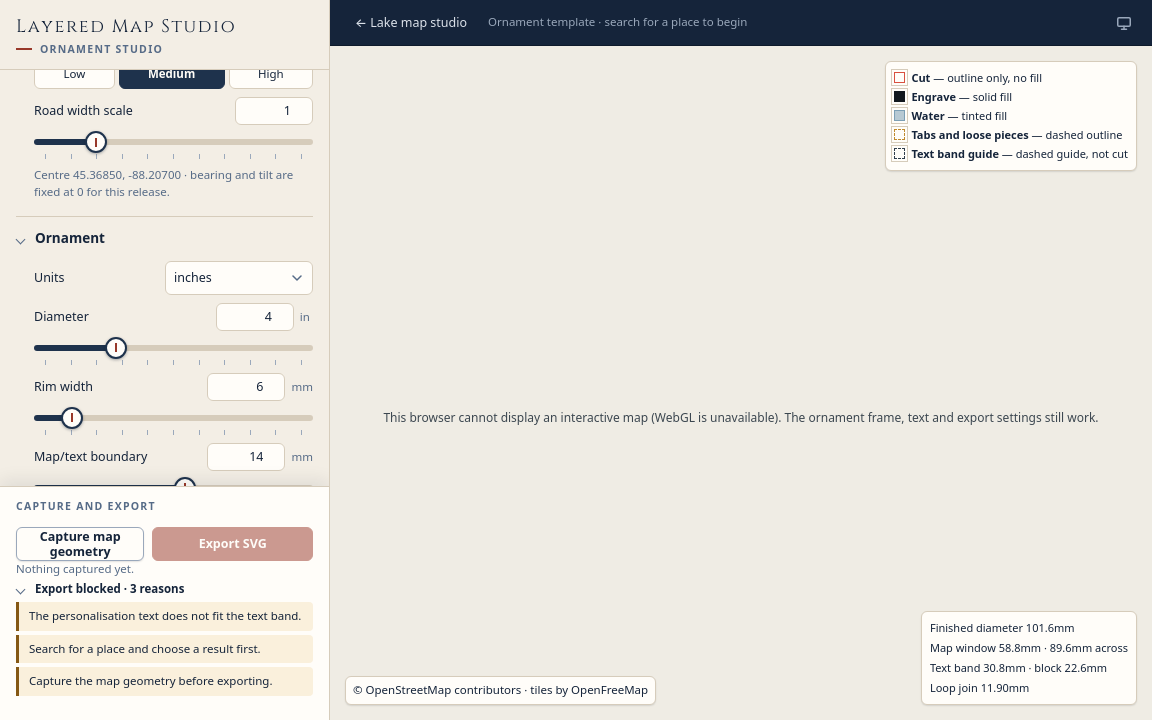
Scenario: ornament reset, as displayed › re-displays millimetres without changing the stored diameter
(page scrolled)
Select "millimetres" in the dropdown labelled "Units" at (239, 278), box [165,261,313,295]
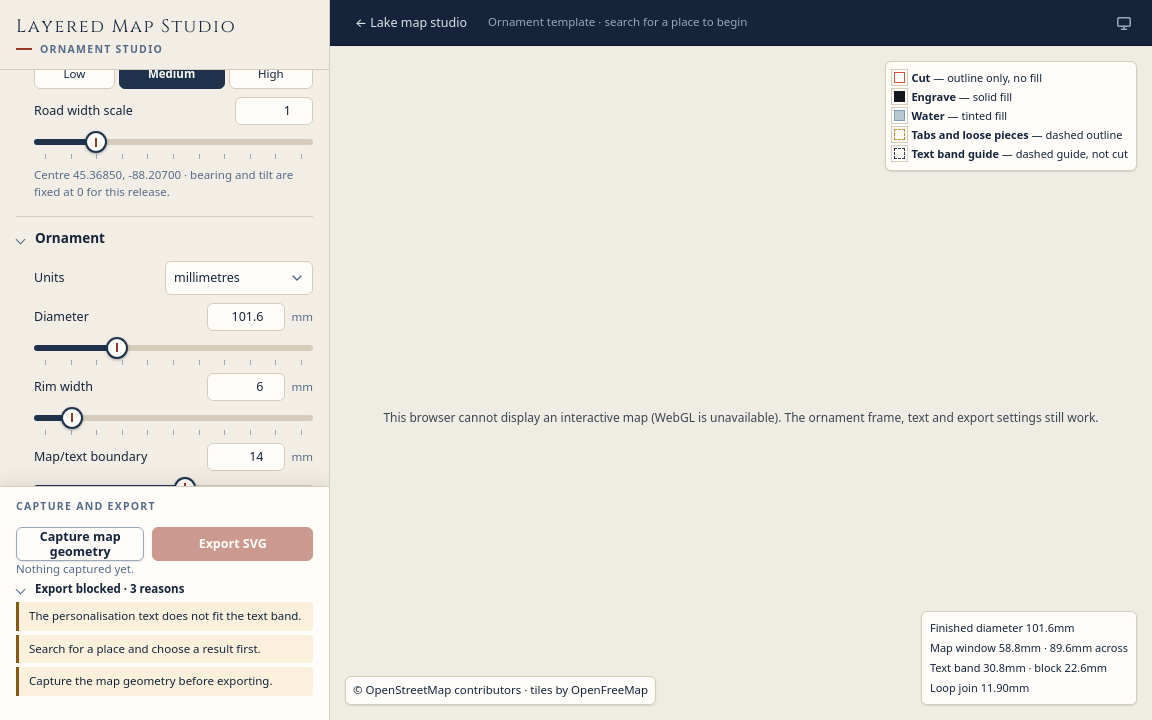
Expected: the number field labelled "Diameter" holds "101.6", [208,303,286,331]
Select "inches" in the dropdown labelled "Units" at (239, 278), box [165,261,313,295]
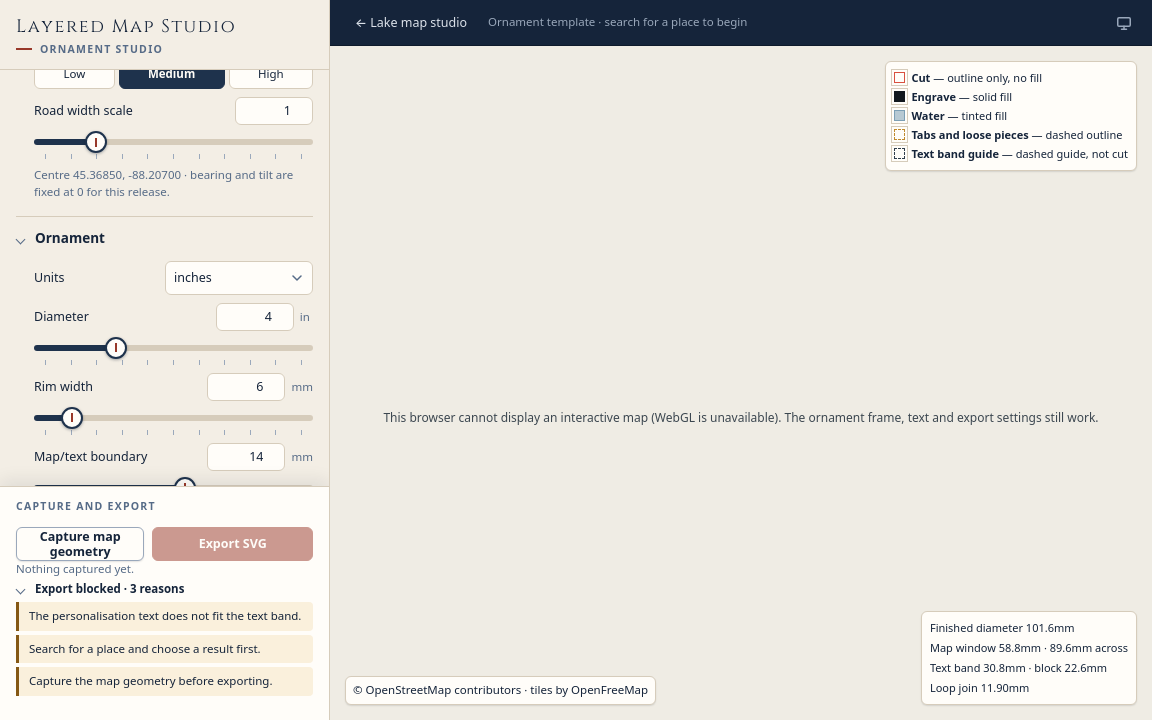
Expected: the number field labelled "Diameter" holds "4", [216,303,294,331]
